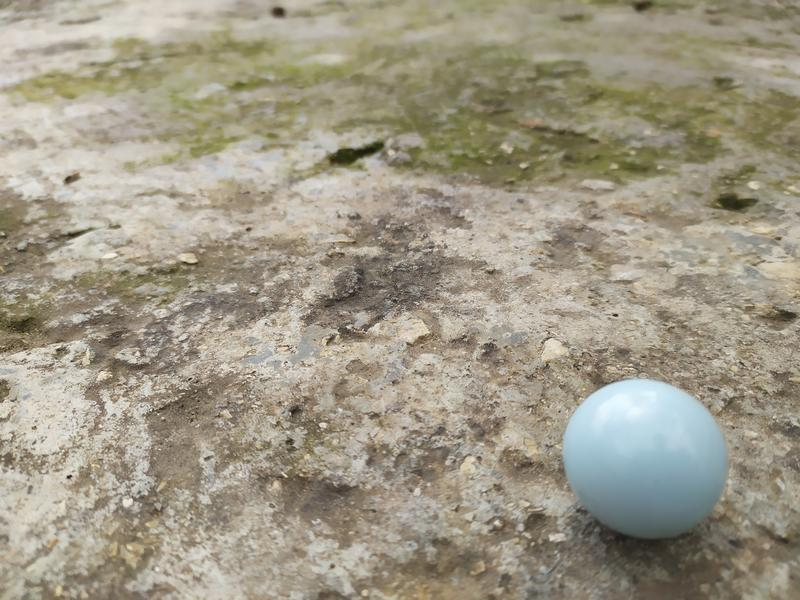Warning: (556, 376, 733, 543)
